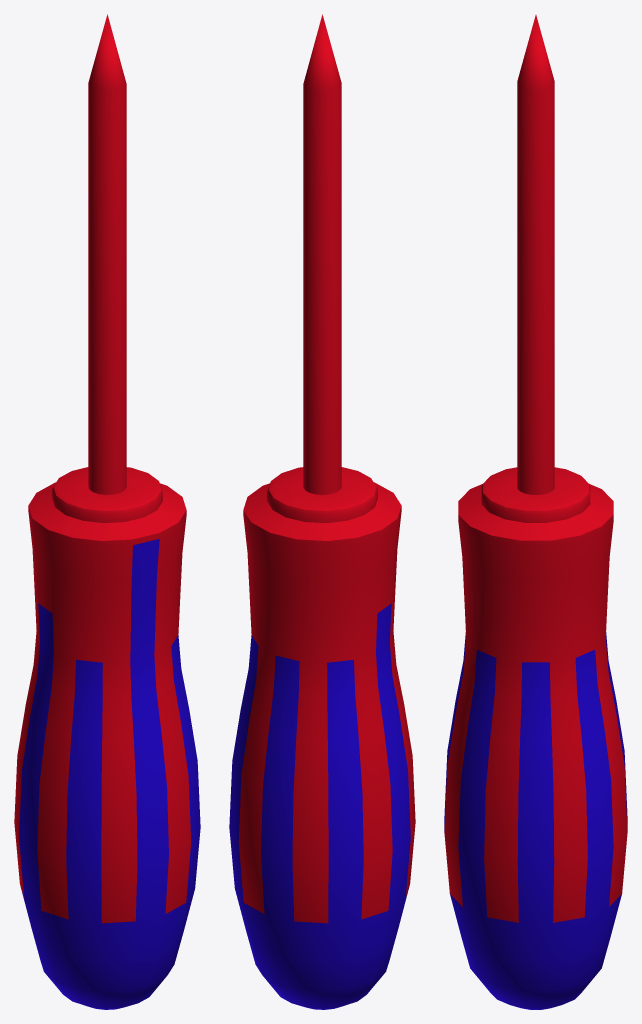
File: Screwdriver 2.fbx
The picture shows the model from 3 angles, left to right: view 1: azimuth 30°, elevation 25°; view 2: azimuth 150°, elevation 25°; view 3: azimuth 270°, elevation 25°; orthographic projection.
Parts seen in each view (by area): view 1: Cylinder; view 2: Cylinder; view 3: Cylinder.
Part boxes in pixels (<box>): Cylinder: <box>14,14,200,1009</box>; Cylinder: <box>229,14,415,1009</box>; Cylinder: <box>444,15,627,1009</box>.
Bounding box in the file's own units: 22.16 × 132 × 22.16.
